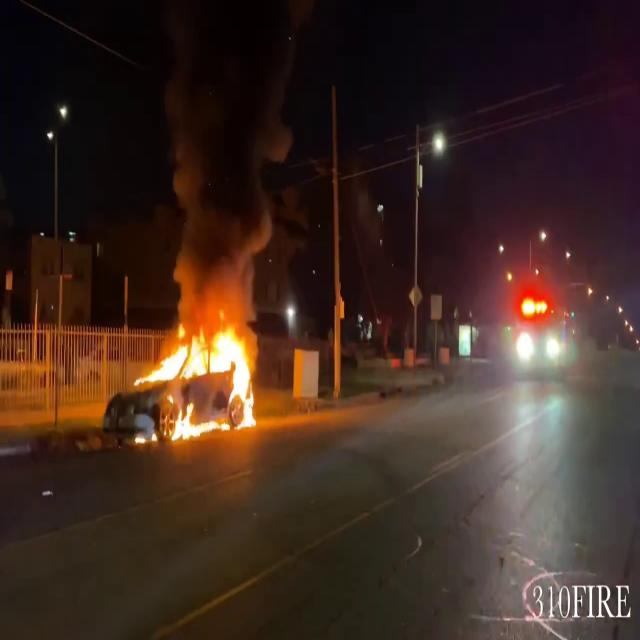Fire: (149, 312, 261, 438)
Smoke: (160, 0, 304, 318)
